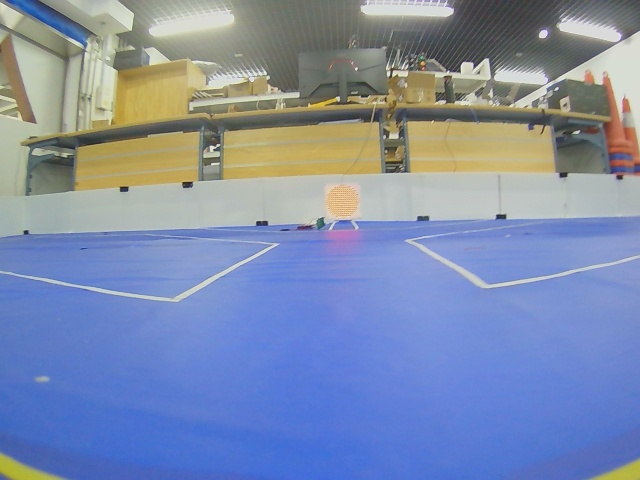red: (324, 183, 361, 221)
